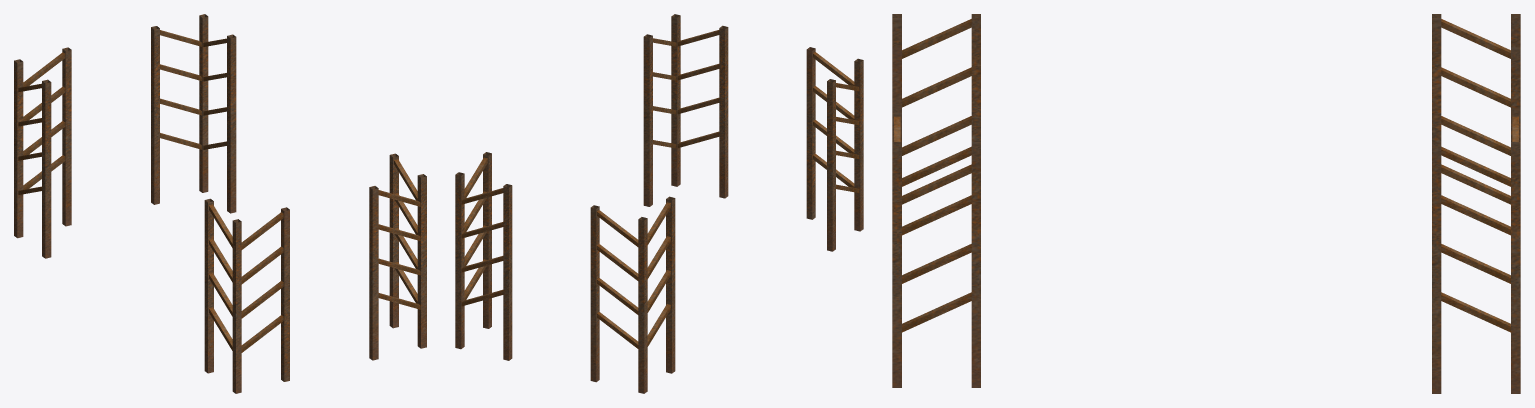
File: PlatformBottom.obj
3 renders of one model, left to right at view 1: azimuth 30°, elevation 25°; view 2: azimuth 150°, elevation 25°; view 3: azimuth 270°, elevation 25°, orthographic. The views are drawn at different scales.
Visible parts, largest first — view 1: PlatformBottom; view 2: PlatformBottom; view 3: PlatformBottom.
Boxes of the visible parts, x1,y1,x2,y2 form: PlatformBottom: [14, 14, 426, 393]; PlatformBottom: [455, 14, 863, 393]; PlatformBottom: [892, 14, 1520, 393].
Size of the model in its own units: 4.92 by 4.31 by 9.9.
Materials: 1 (1 with a texture image).
